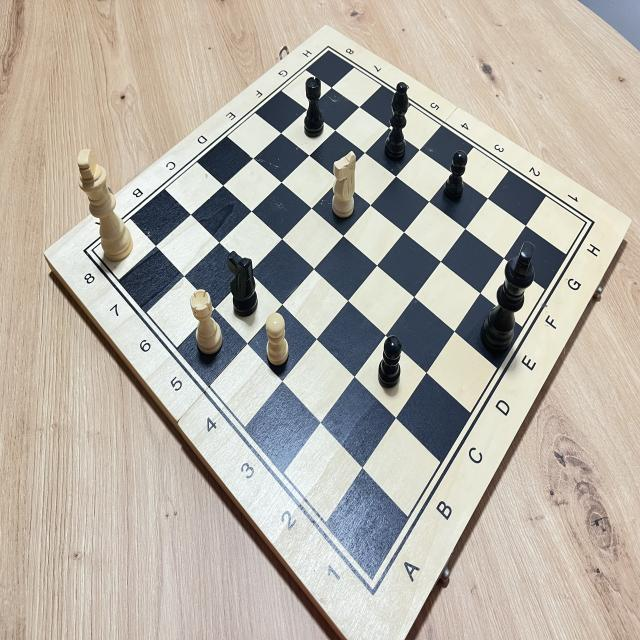black-bishop: (379, 75, 414, 175)
black-king: (466, 236, 548, 364)
black-knight: (220, 242, 263, 327)
black-pawn: (372, 331, 406, 395), (438, 147, 471, 211)
black-rook: (295, 70, 330, 144)
white-king: (72, 143, 136, 268)
white-knight: (326, 145, 368, 233)
white-pawn: (262, 308, 294, 372)
white-rook: (182, 279, 231, 363)
